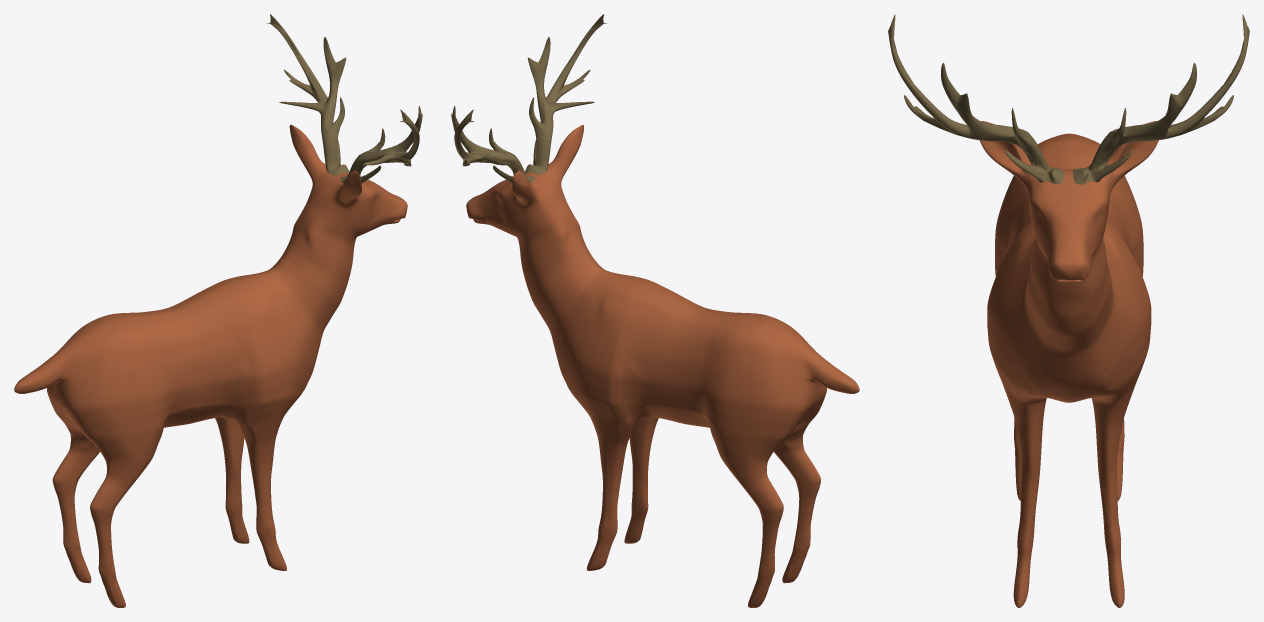
Rendered from deer2.5.fbx.
The picture shows the model from 3 angles, left to right: view 1: azimuth 30°, elevation 25°; view 2: azimuth 150°, elevation 25°; view 3: azimuth 270°, elevation 25°; orthographic projection. The views are drawn at different scales.
Visible parts, largest first — view 1: grp1_2, grp1_2.001; view 2: grp1_2, grp1_2.001; view 3: grp1_2, grp1_2.001.
Part boxes in pixels (x1,y1,x2,y2): grp1_2: [14, 124, 407, 607]; grp1_2.001: [266, 14, 422, 183]; grp1_2: [466, 125, 859, 607]; grp1_2.001: [451, 14, 607, 183]; grp1_2: [979, 121, 1158, 607]; grp1_2.001: [888, 14, 1249, 184].
Bounding box in the file's own units: 1218 × 1427 × 733.
